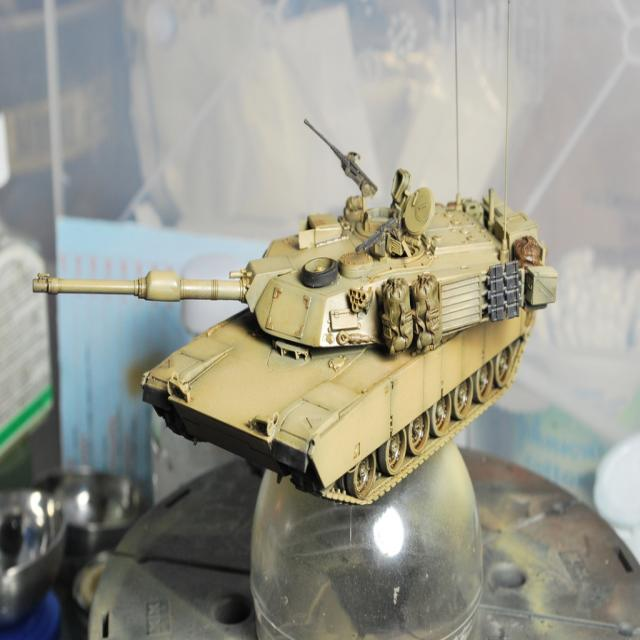tank: (32, 0, 557, 508)
